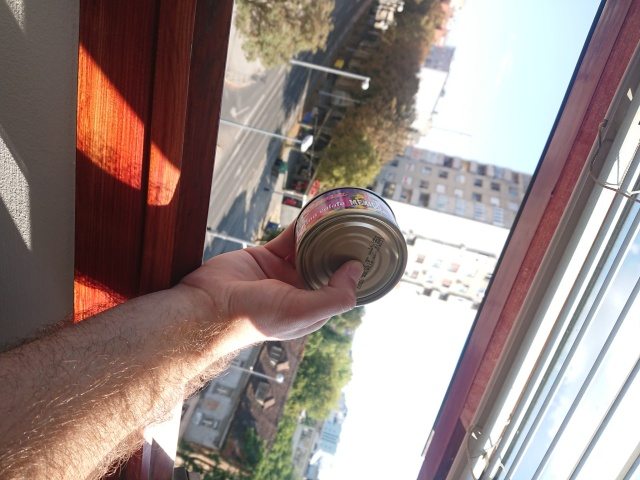Giana Tuna Salad Mexico 185g: (290, 184, 412, 311)
